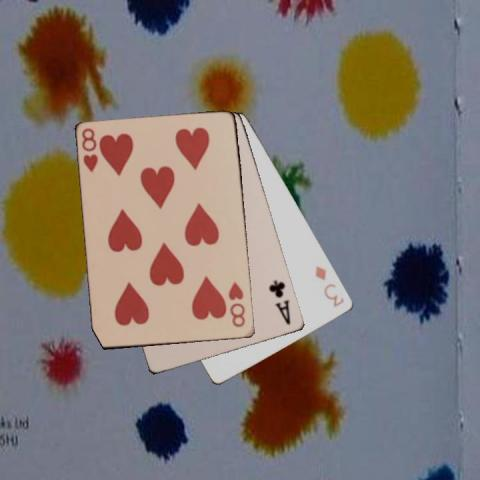3d: (312, 262, 346, 309)
8h: (225, 280, 247, 330), (79, 125, 100, 174)
Ac: (266, 277, 292, 326)
